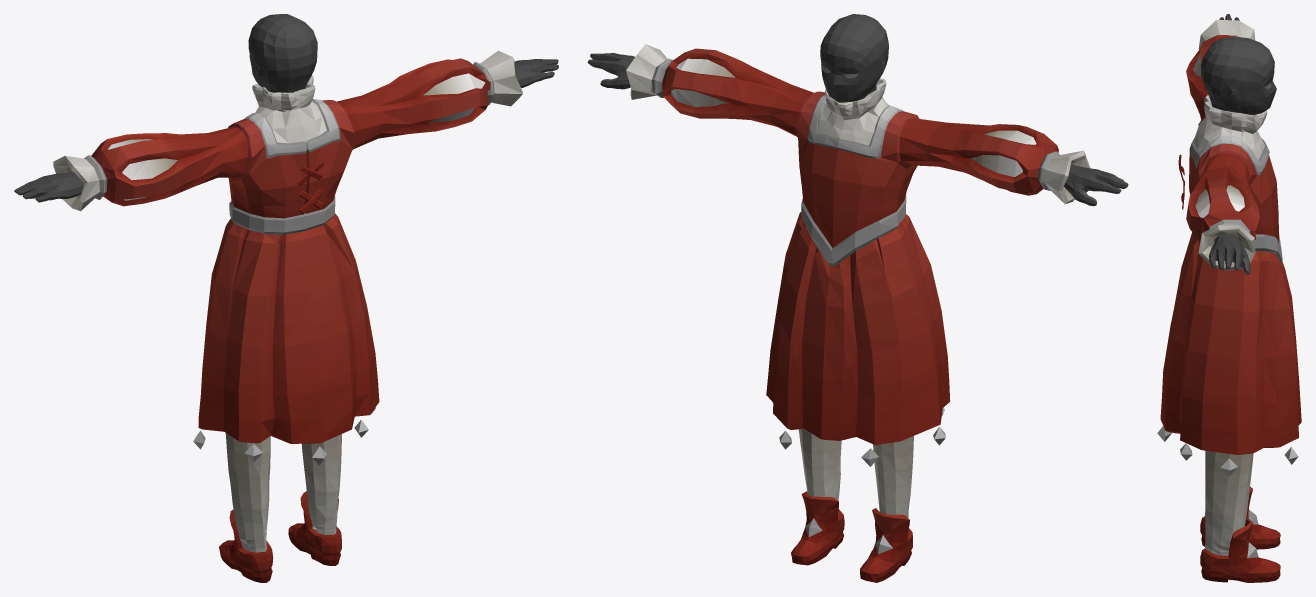
Rendered from NPC_AP26Gown.glb.
3 renders of one model, left to right at view 1: azimuth 30°, elevation 25°; view 2: azimuth 150°, elevation 25°; view 3: azimuth 270°, elevation 25°, orthographic. The views are drawn at different scales.
Parts seen in each view (by area): view 1: NPC_AP26Gown; view 2: NPC_AP26Gown; view 3: NPC_AP26Gown.
Boxes of the visible parts, bbox=[...] form: NPC_AP26Gown: bbox=[14, 14, 558, 582]; NPC_AP26Gown: bbox=[587, 14, 1128, 582]; NPC_AP26Gown: bbox=[1157, 14, 1301, 582].
Bounding box in the file's own units: 14.22 × 13.67 × 3.43.
1 material, 1 textured.
